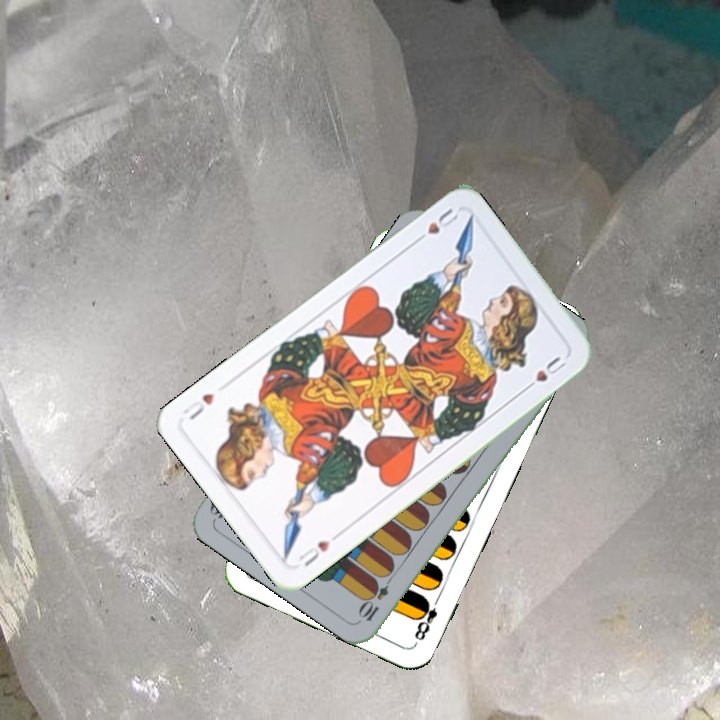E10: (356, 569, 397, 624)
E8: (410, 591, 443, 643)
HU: (410, 204, 461, 247), (294, 529, 342, 569)
